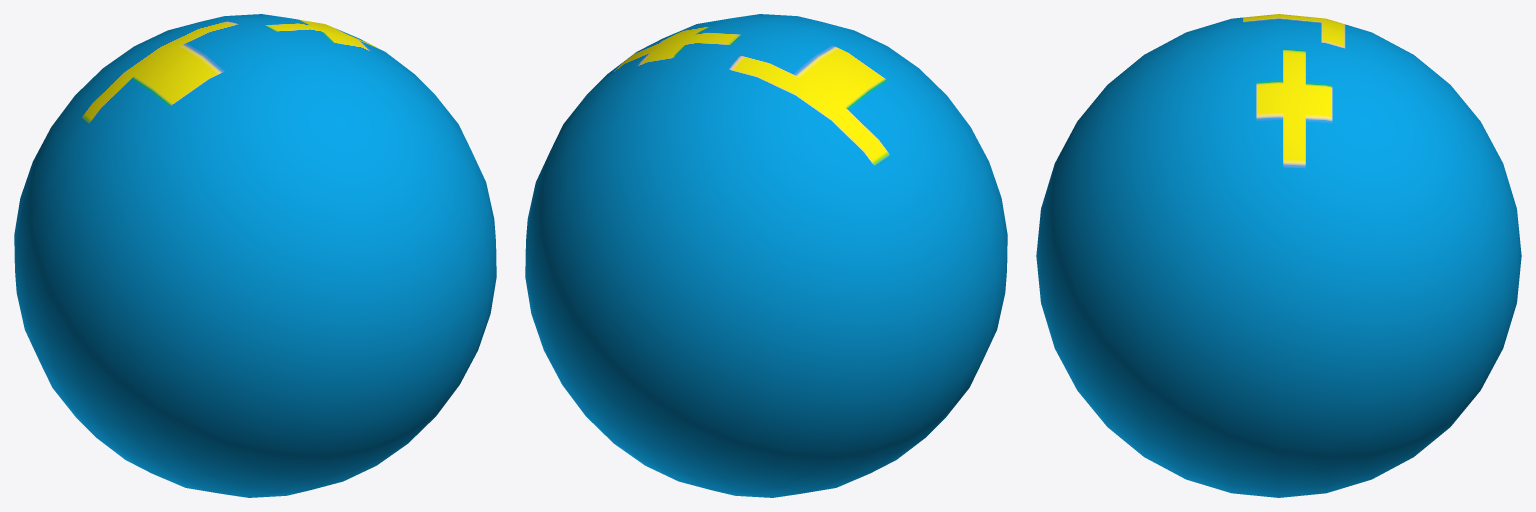
The model's file is TimeBonus.FBX.
The picture shows the model from 3 angles, left to right: view 1: azimuth 30°, elevation 25°; view 2: azimuth 150°, elevation 25°; view 3: azimuth 270°, elevation 25°; orthographic projection.
Visible parts, largest first — view 1: Sphere01; view 2: Sphere01; view 3: Sphere01.
Boxes of the visible parts, left/top/right/bottom form: Sphere01: left=14, top=14, right=496, bottom=497; Sphere01: left=525, top=14, right=1007, bottom=497; Sphere01: left=1036, top=14, right=1521, bottom=497.
Size of the model in its own units: 736 by 736 by 739.
Materials: 1 (1 with a texture image).
